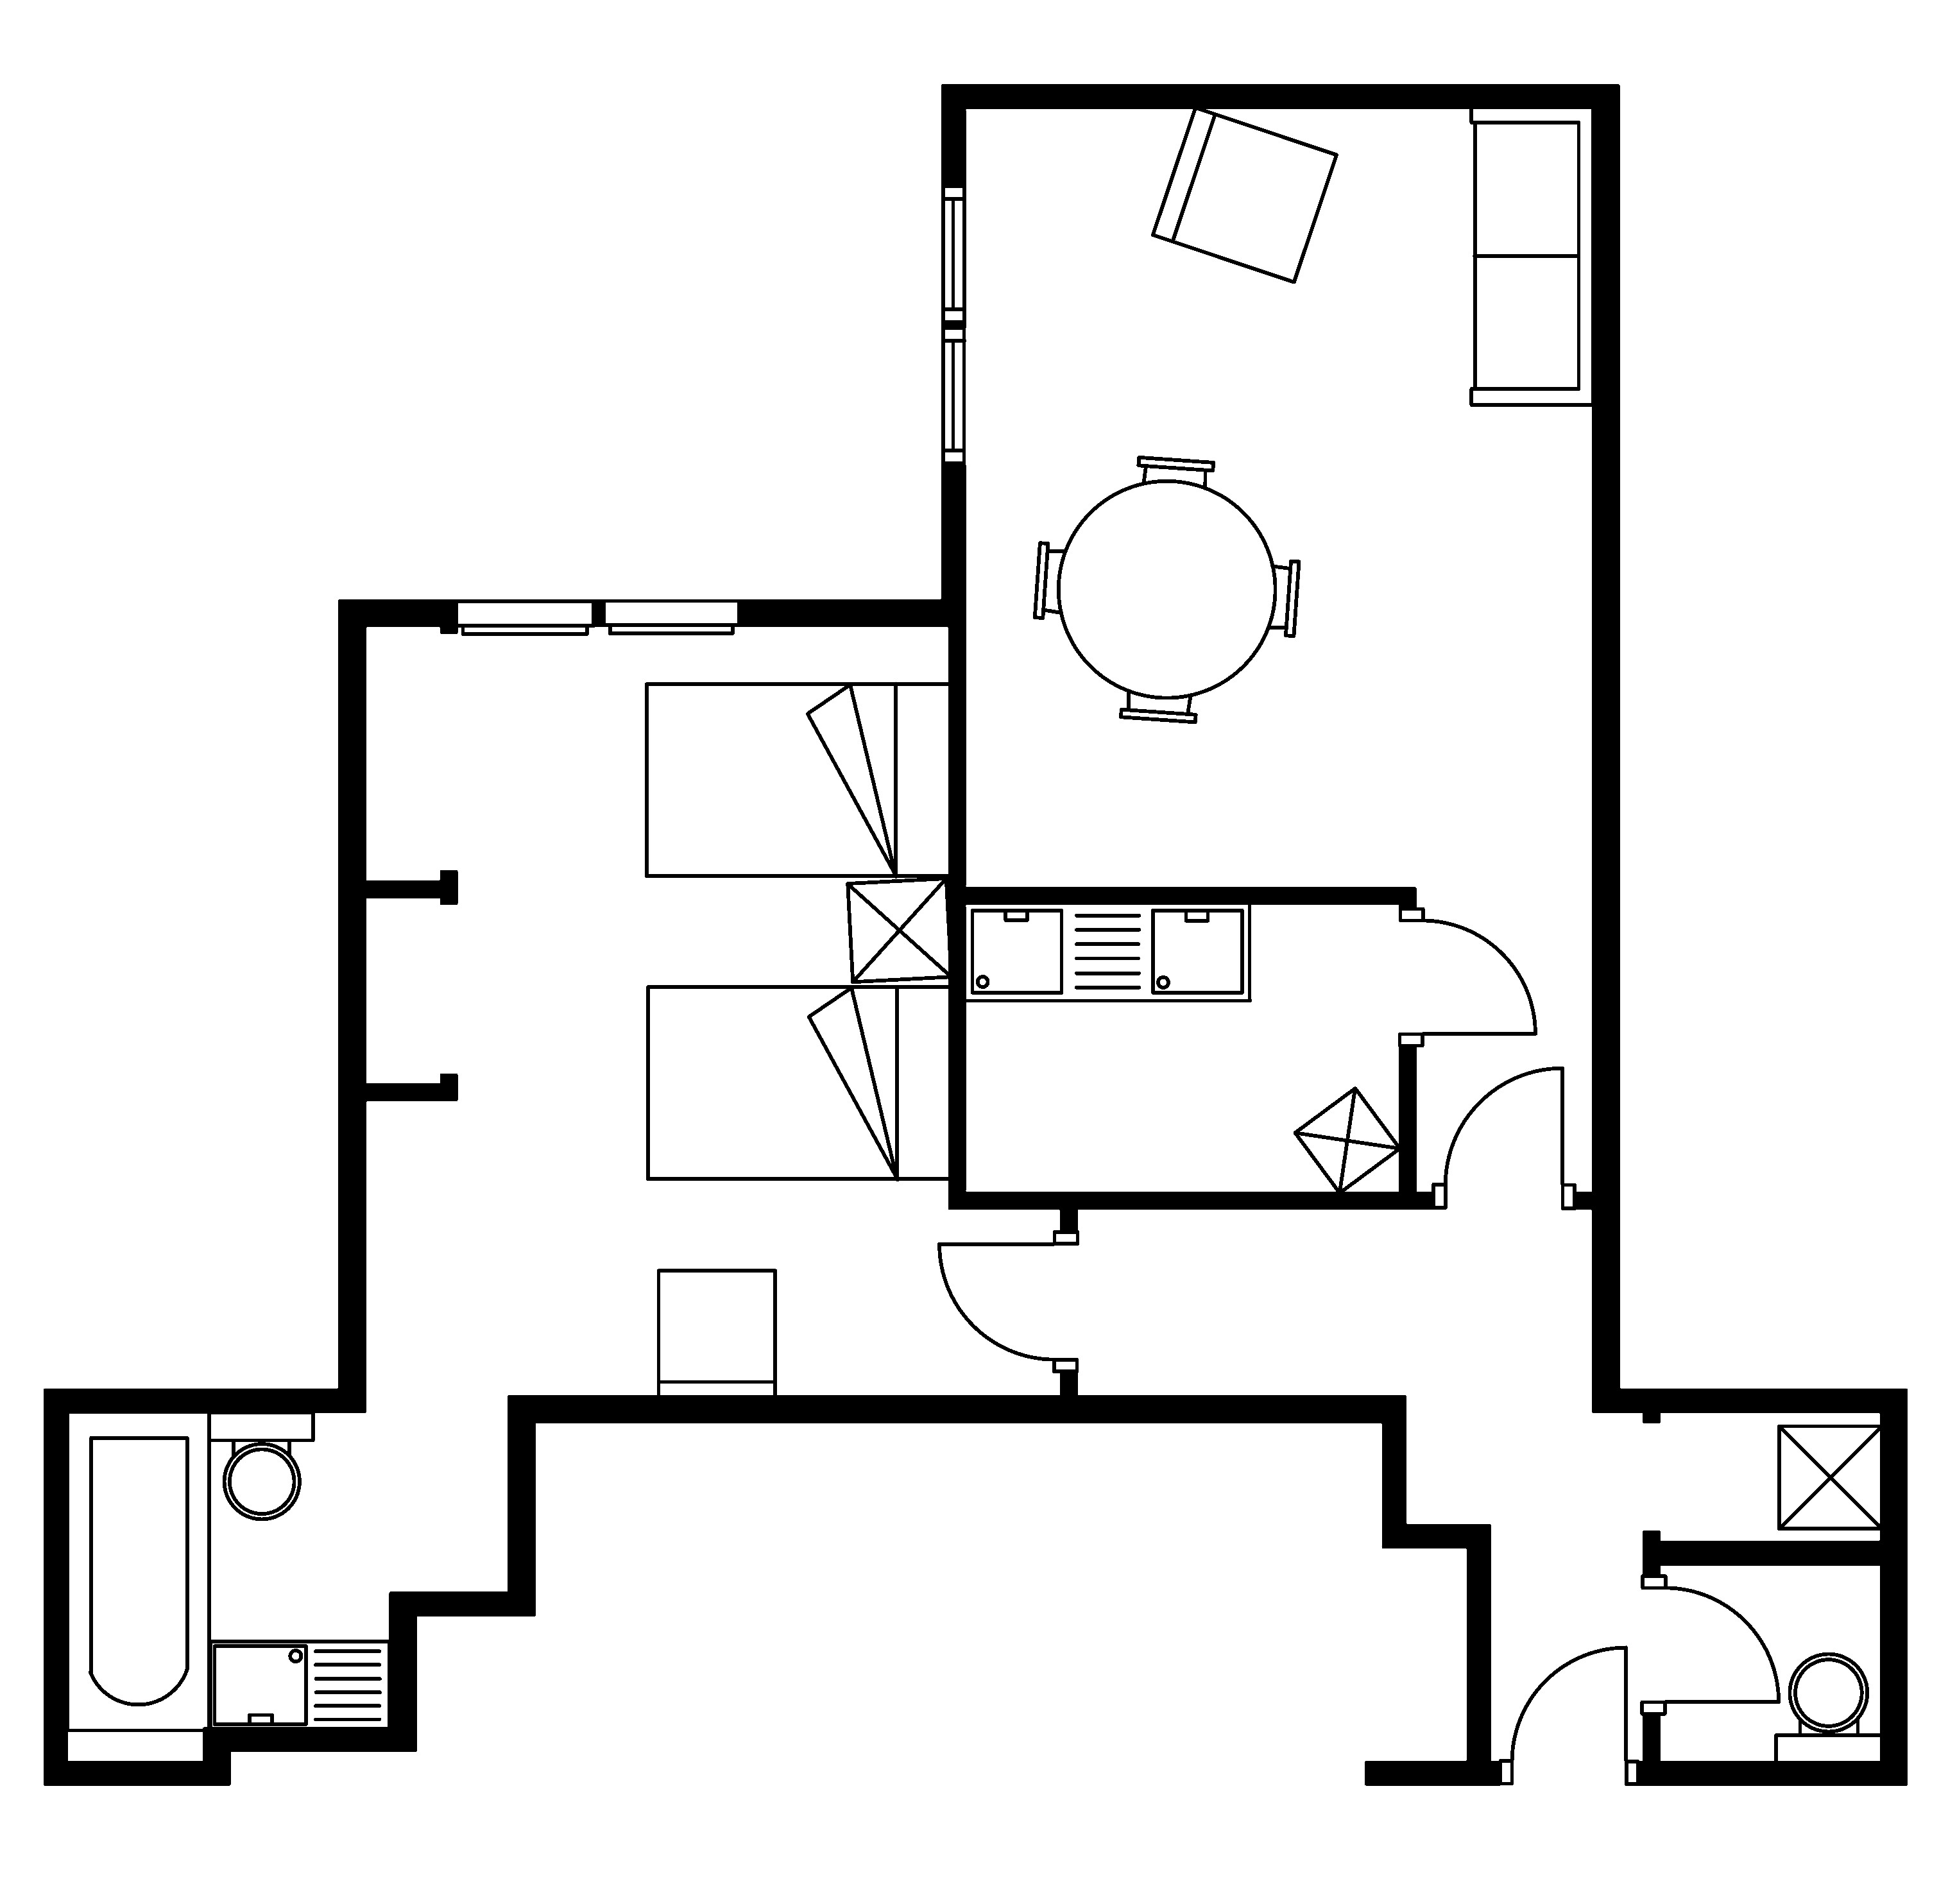bed: (644, 680, 952, 879), (645, 983, 954, 1182)
coffee_table: (1292, 1086, 1402, 1194), (1775, 1423, 1883, 1531), (844, 875, 952, 983)
large_sink: (1774, 1653, 1885, 1766), (206, 1411, 316, 1520)
large_sofa: (1468, 105, 1596, 406)
round_table: (1032, 455, 1301, 724)
sink: (208, 1639, 391, 1731)
small_sofa: (1149, 105, 1338, 284), (656, 1268, 778, 1402)
tub: (65, 1409, 211, 1733)
twin_sink: (961, 900, 1252, 1003)
